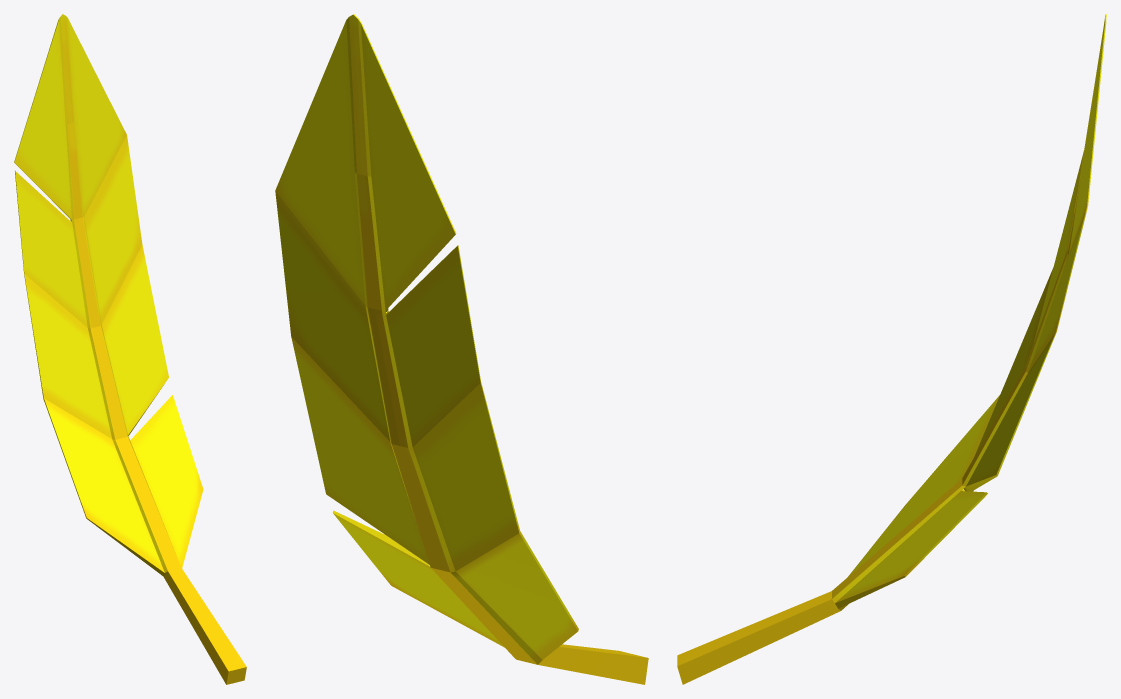
Rendered from Feather.fbx.
3 renders of one model, left to right at view 1: azimuth 30°, elevation 25°; view 2: azimuth 150°, elevation 25°; view 3: azimuth 270°, elevation 25°, orthographic. The views are drawn at different scales.
Parts seen in each view (by area): view 1: polySurface3; view 2: polySurface3; view 3: polySurface3.
Part boxes in pixels (x1,y1,x2,y2): polySurface3: (14,14,246,684); polySurface3: (275,14,648,684); polySurface3: (677,14,1106,684).
Bounding box in the file's own units: 2.68 × 11.32 × 6.62.
1 material, 1 textured.
